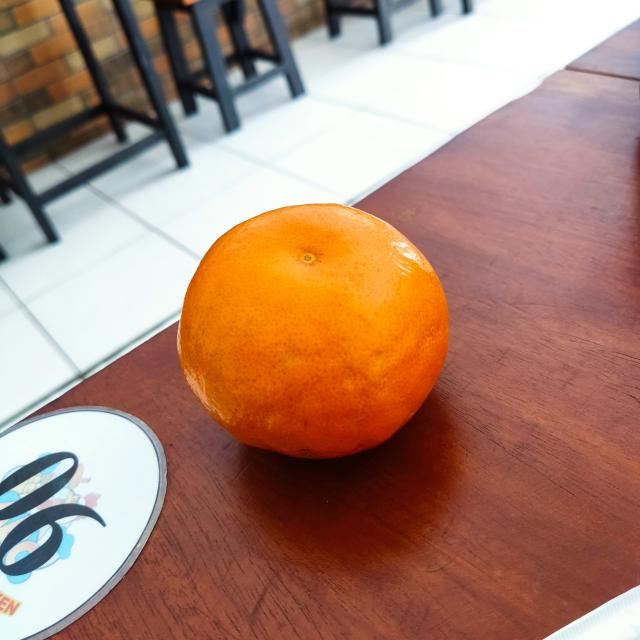orange: (177, 203, 453, 464)
